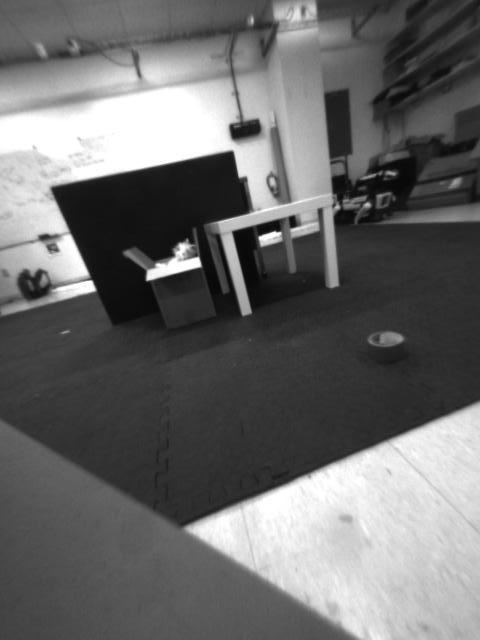dogtoy: (351, 316, 416, 383)
